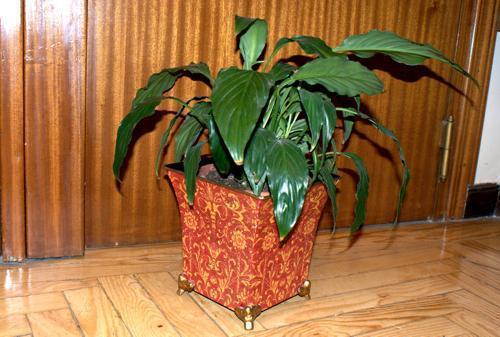Matera: (96, 16, 479, 328)
